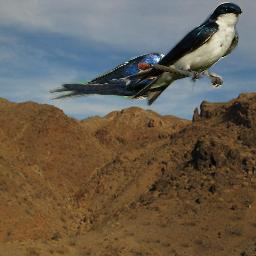Swallow: (123, 2, 243, 106), (49, 52, 170, 100)
